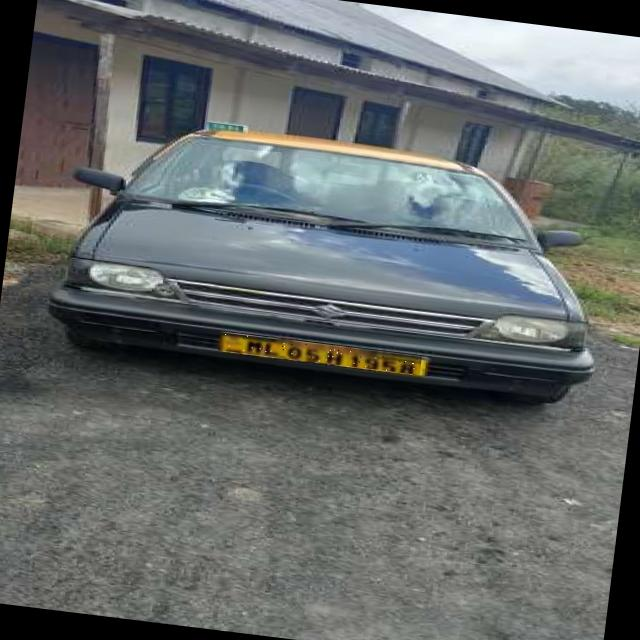Plate: (219, 333, 423, 376)
